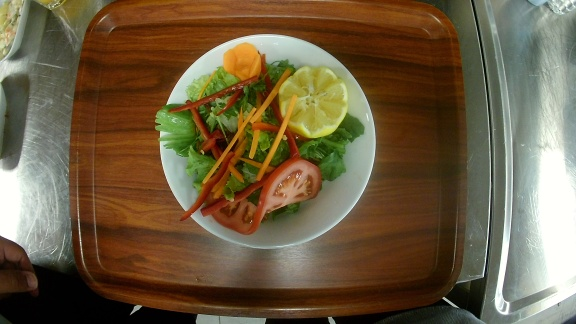salata: (159, 35, 379, 249)
